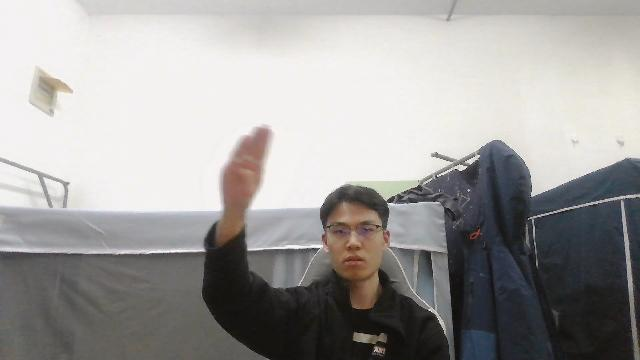four: (214, 122, 275, 217)
